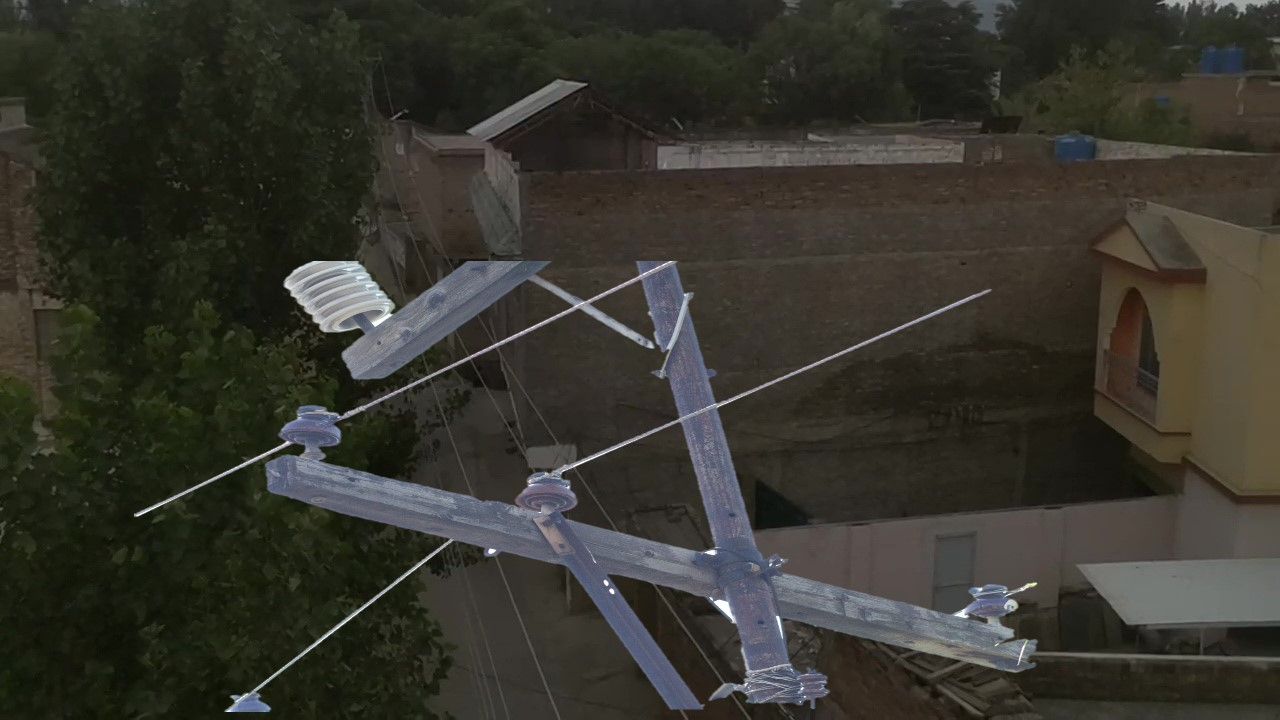defect_pin: (958, 575, 1027, 629)
insulator_pin: (504, 462, 588, 525), (272, 396, 348, 455)
